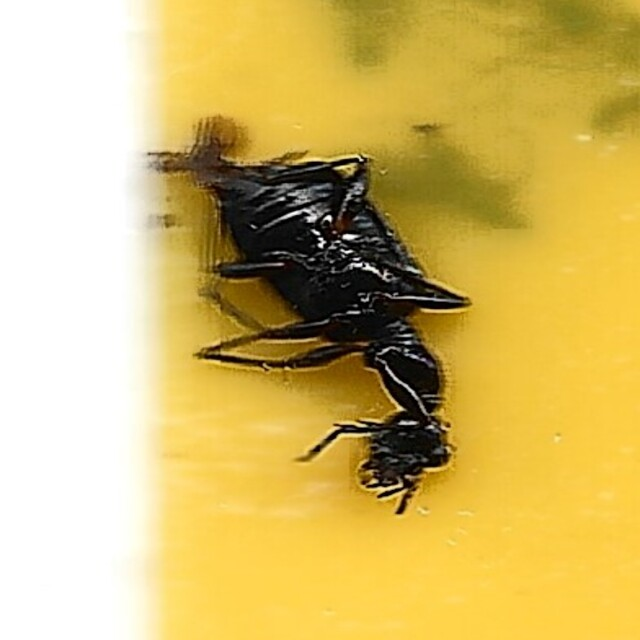Coleoptera: (163, 127, 477, 513)
